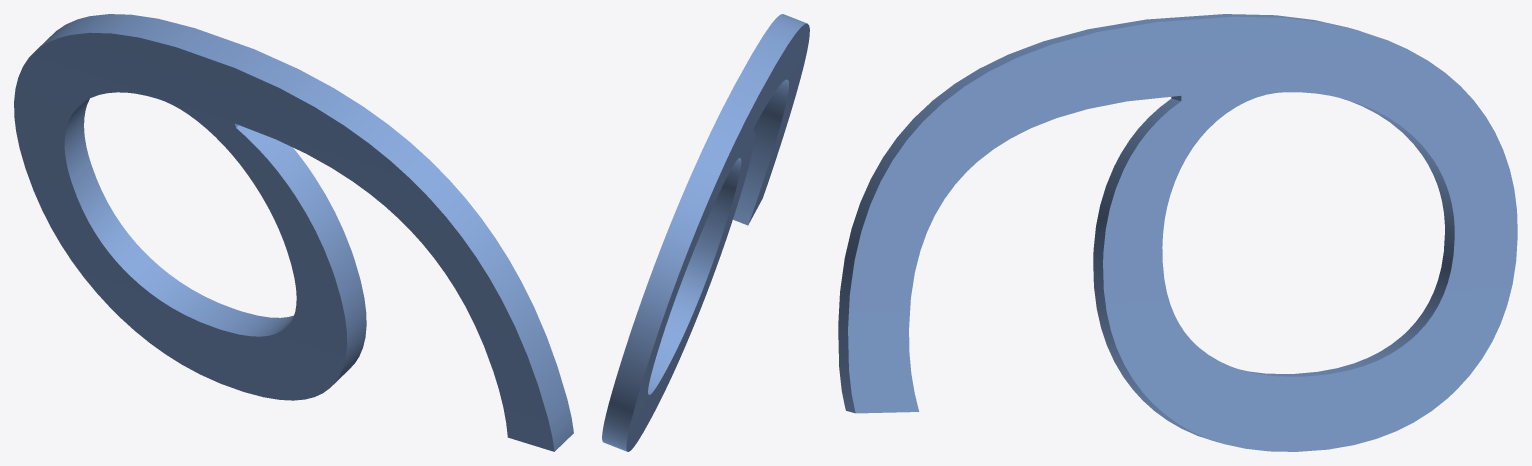
Rendered from New_Number_9.gltf.
3 renders of one model, left to right at view 1: azimuth 30°, elevation 25°; view 2: azimuth 150°, elevation 25°; view 3: azimuth 270°, elevation 25°, orthographic. The views are drawn at different scales.
Visible parts, largest first — view 1: Part 711; view 2: Part 711; view 3: Part 711.
Part boxes in pixels (x1,y1,x2,y2): Part 711: (14,14,573,451); Part 711: (602,14,809,451); Part 711: (838,14,1517,451).
Bounding box in the file's own units: 0.00227 × 0.00361 × 0.00555.
